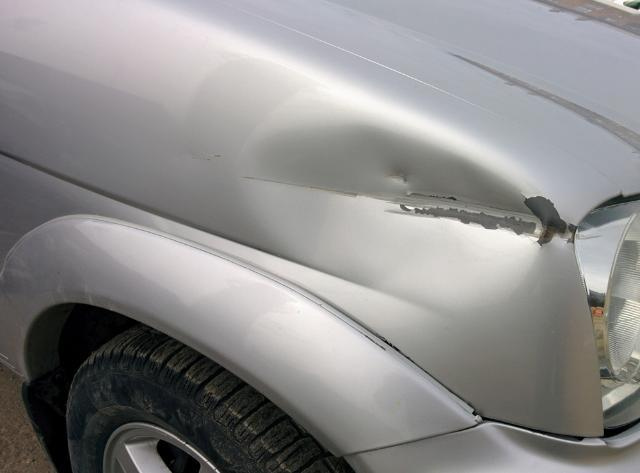dent: (241, 118, 543, 310)
